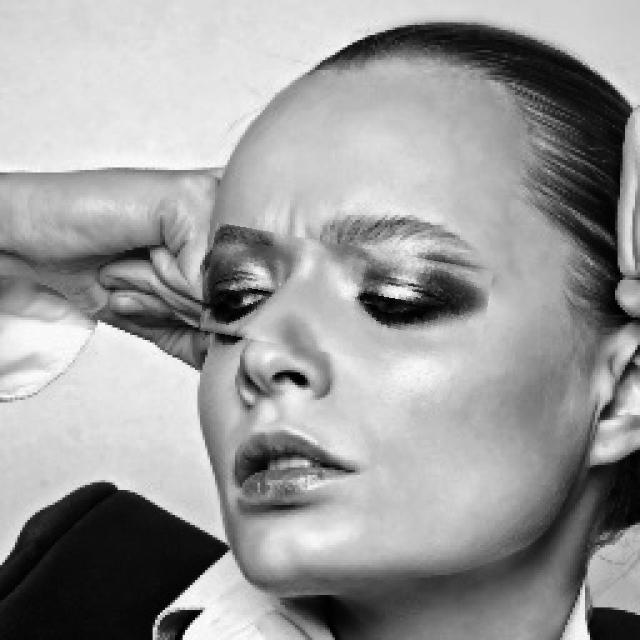no-glasses: (202, 234, 491, 367)
